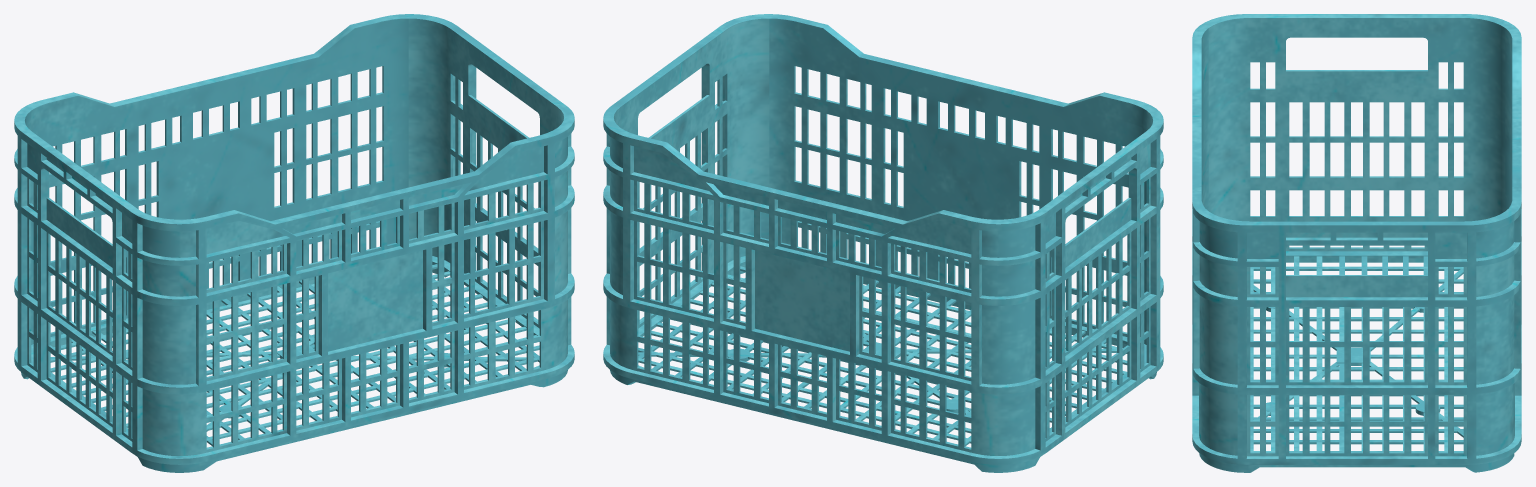
Rendered from plastic_crate.glb.
The picture shows the model from 3 angles, left to right: view 1: azimuth 30°, elevation 25°; view 2: azimuth 150°, elevation 25°; view 3: azimuth 270°, elevation 25°; orthographic projection.
Visible parts, largest first — view 1: PlasticCrate; view 2: PlasticCrate; view 3: PlasticCrate.
Part boxes in pixels (left/top/right/bottom): PlasticCrate: left=14, top=14, right=574, bottom=472; PlasticCrate: left=603, top=14, right=1163, bottom=472; PlasticCrate: left=1192, top=14, right=1521, bottom=472.
Size of the model in its own units: 0.6899 by 0.381 by 0.4537.
1 material, 1 textured.
